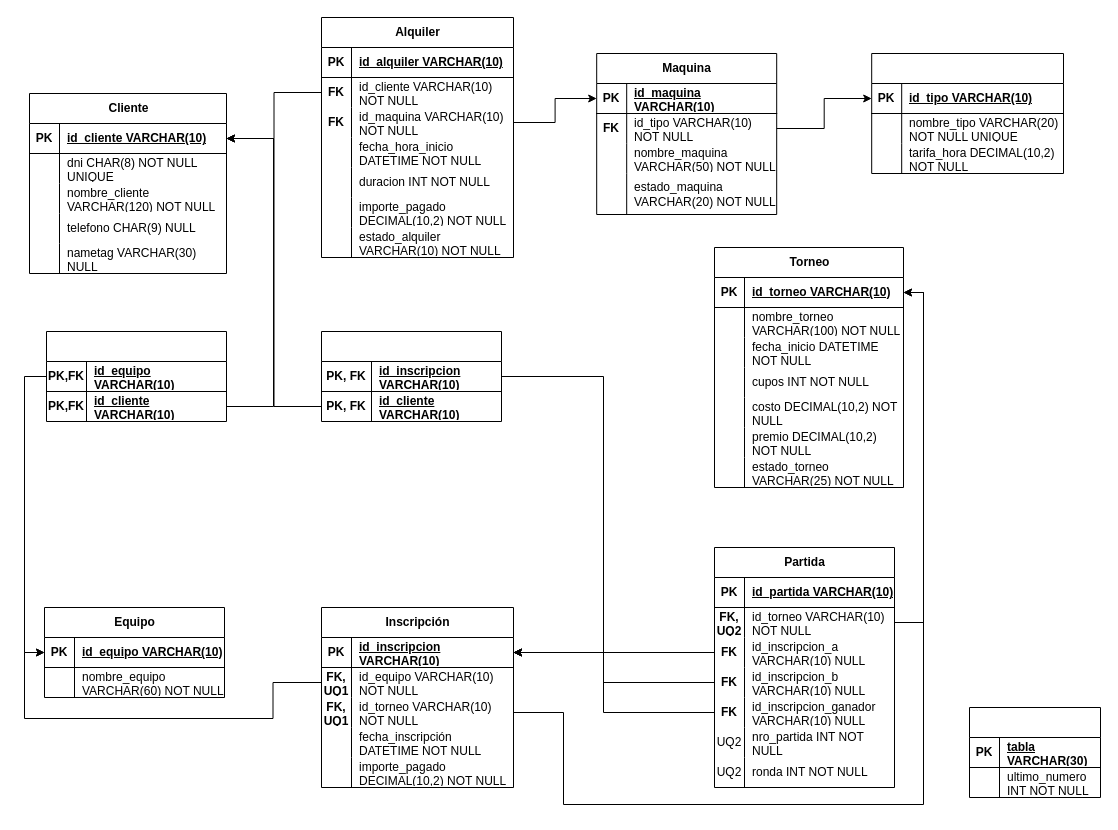
Image size: 1118x830. Some labels were removed from this diagram. The shapes that lost their labels are listed below. From the top down, each one's box as (x1, y1, x2, y2) in pixels, then its label:
(871, 52, 1064, 174): TipoMaquina
(46, 330, 226, 422): MiembroEquipo
(320, 330, 502, 422): IntegranteInscripcion
(968, 706, 1100, 798): ContadorId
